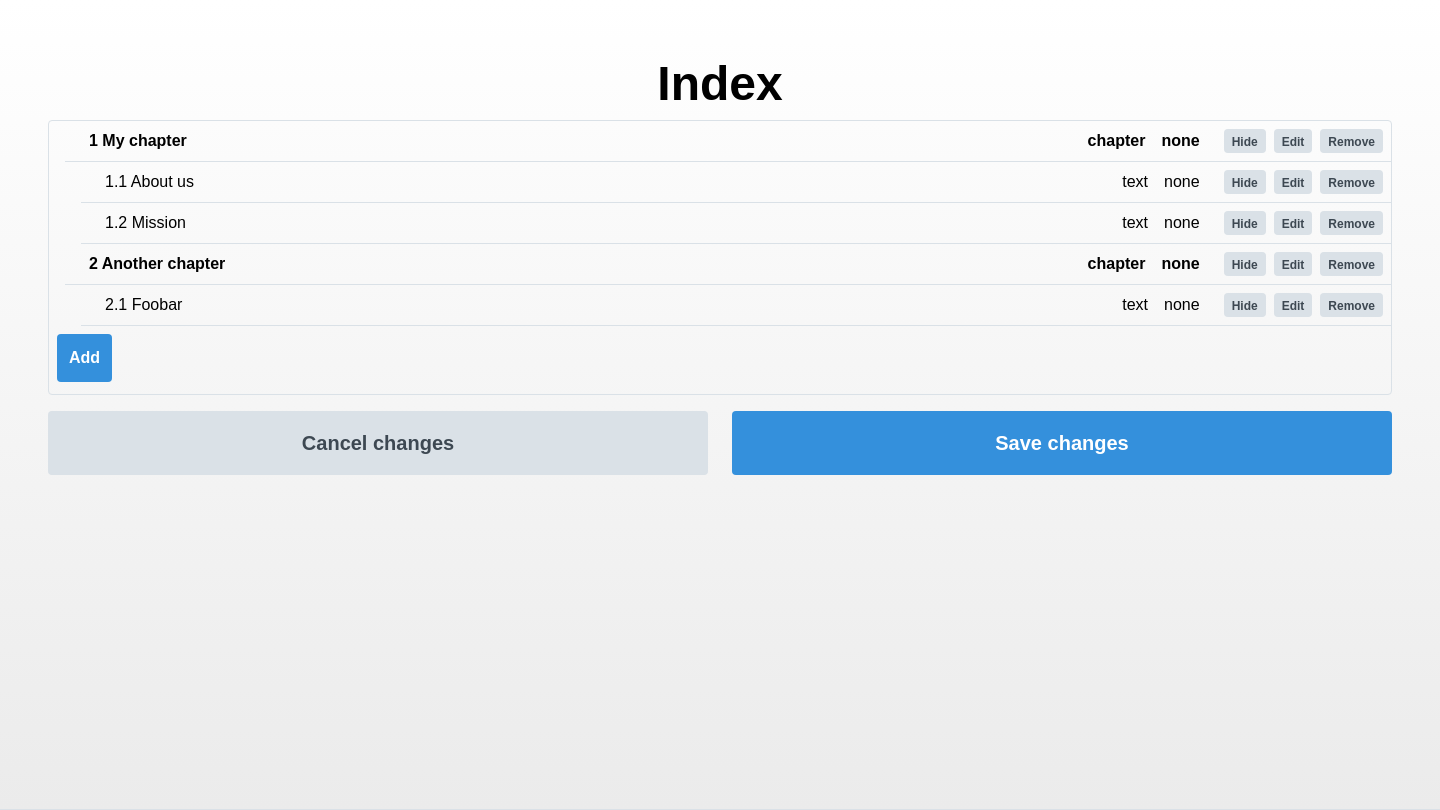
it: IndexEditor.vue › removes the page but not its children when the remove button is clicked
The image size is (1440, 810).
Click the button with class "del" in the row of "1 My chapter". click: (1352,141)
box: 1320,129 -> 1383,153
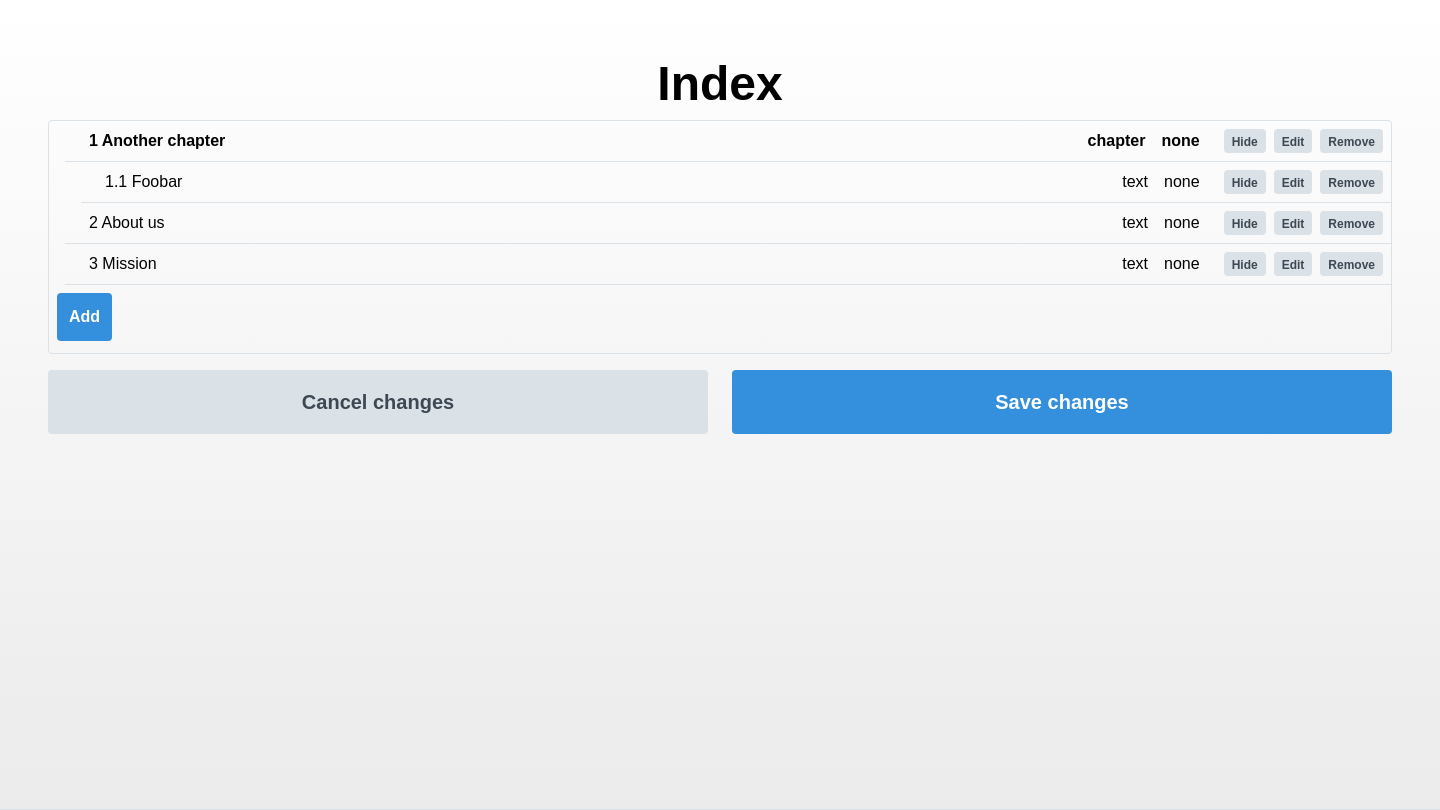
Expected: the text "About us" is shown, 89,214 -> 165,231
Expected: the text "My chapter" is gone
